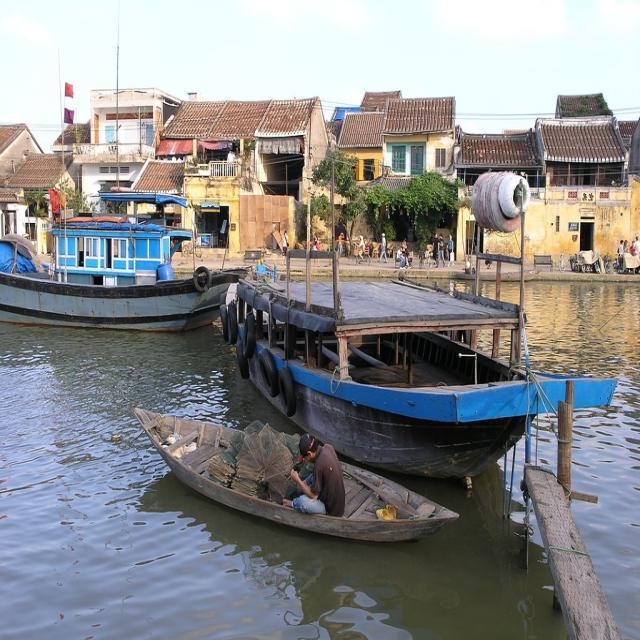boat: (227, 239, 633, 477), (123, 402, 466, 537), (1, 195, 248, 332)
